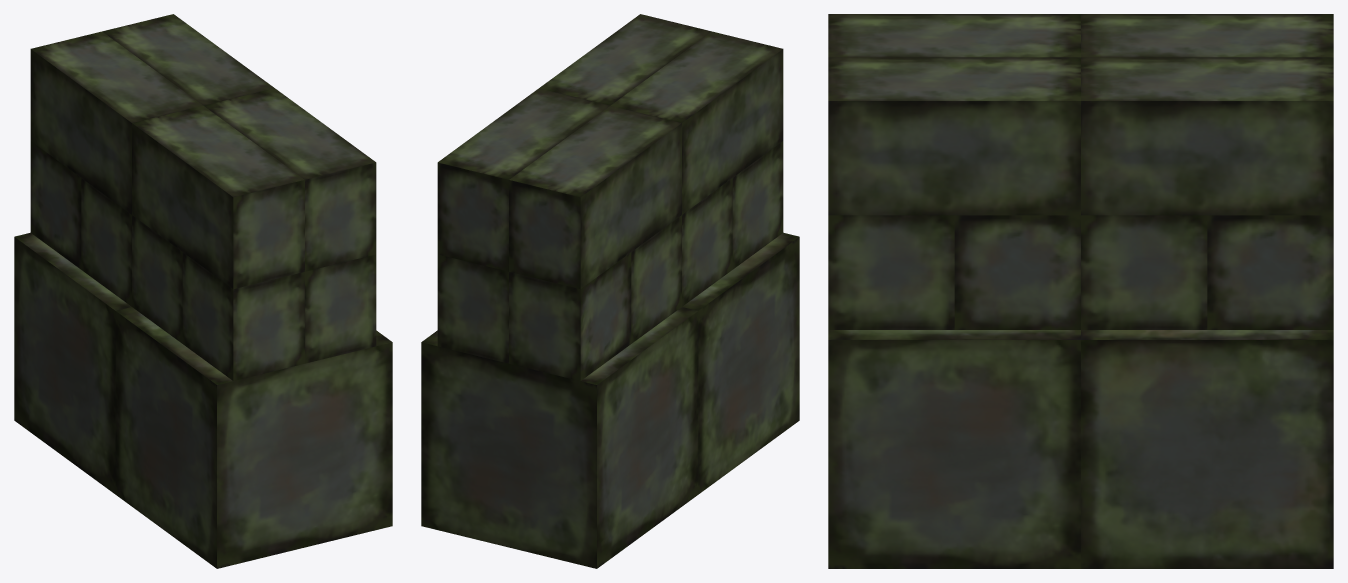
Rendered from wall-02.fbx.
3 renders of one model, left to right at view 1: azimuth 30°, elevation 25°; view 2: azimuth 150°, elevation 25°; view 3: azimuth 270°, elevation 25°, orthographic. The views are drawn at different scales.
Visible parts, largest first — view 1: wall_2; view 2: wall_2; view 3: wall_2.
Part boxes in pixels (x1,y1,x2,y2): wall_2: (14, 14, 392, 568); wall_2: (421, 14, 799, 568); wall_2: (828, 14, 1333, 568).
Bounding box in the file's own units: 200 × 400 × 400.
